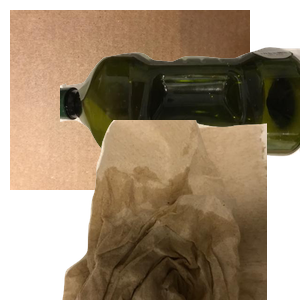cardboard: (10, 10, 250, 190)
glass: (102, 181, 246, 300)
plastic: (60, 44, 300, 195)
trash: (60, 120, 300, 300)
